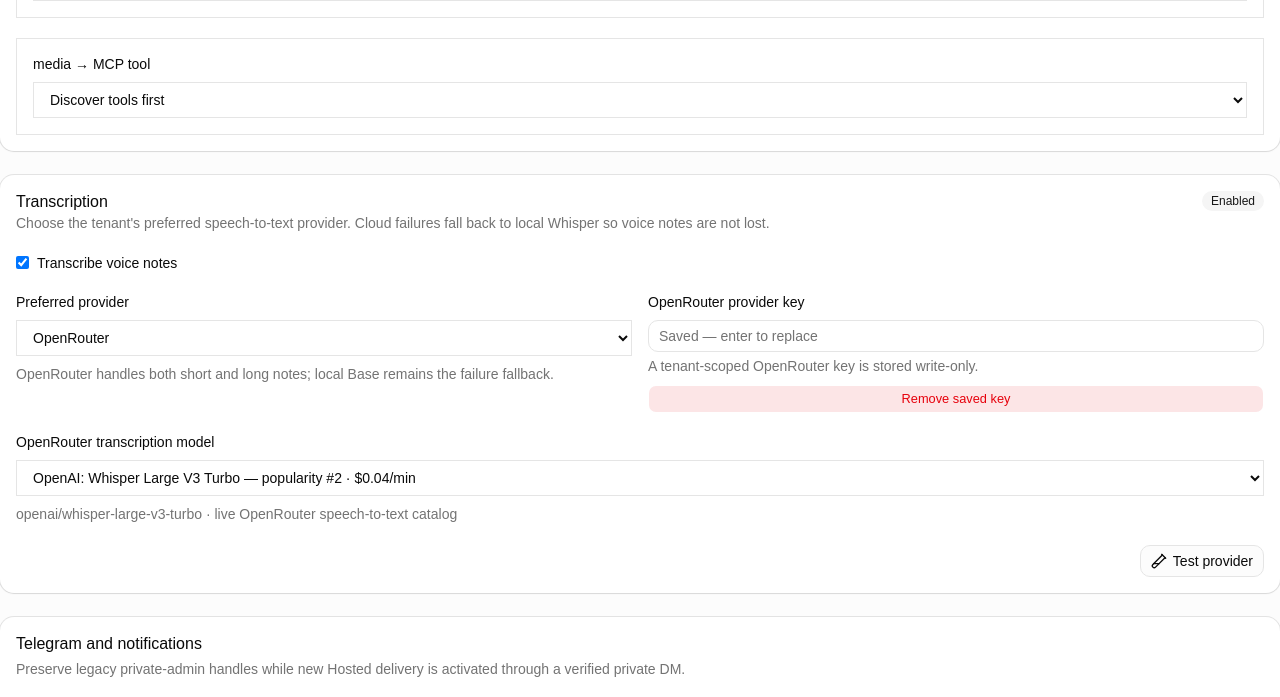
Test: Phylax tenant transcription settings › does not reuse a saved OpenRouter key after switching to Groq
(page scrolled)
Select "Groq" in the dropdown labelled "Preferred provider" at (324, 338), box [16,320,632,356]
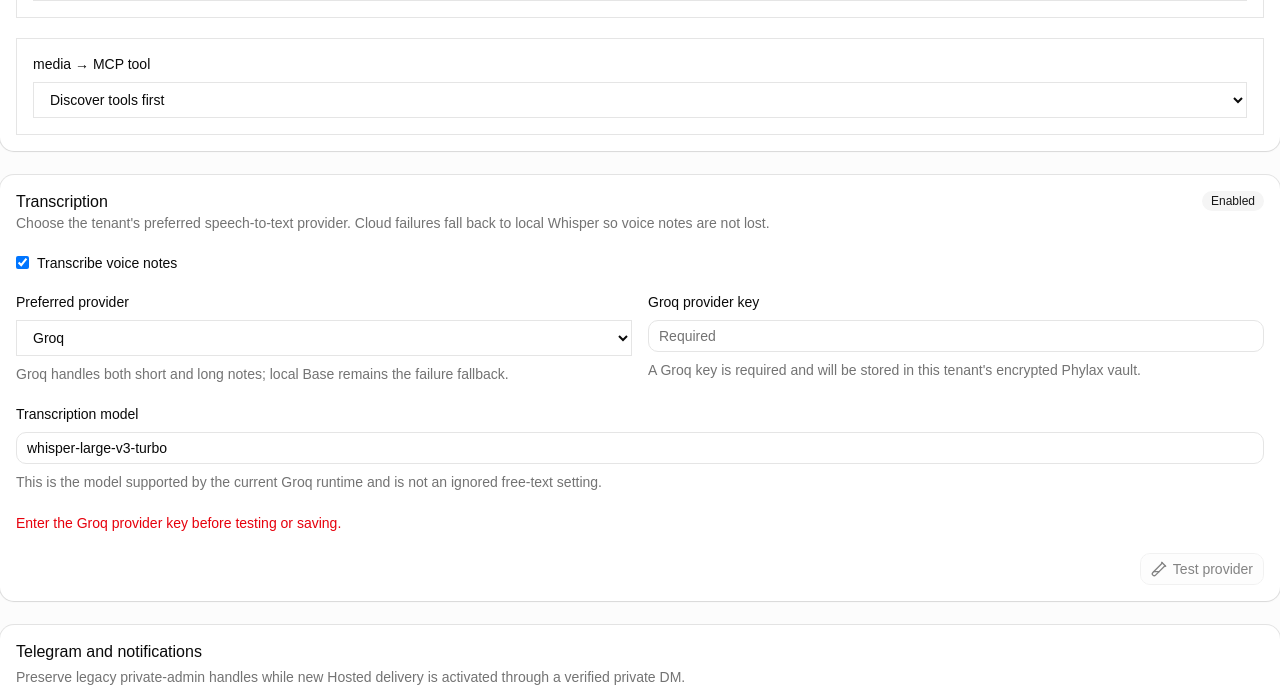
Expected: the field named "groq transcription model" holds "whisper-large-v3-turbo", [16,432,1264,464]
